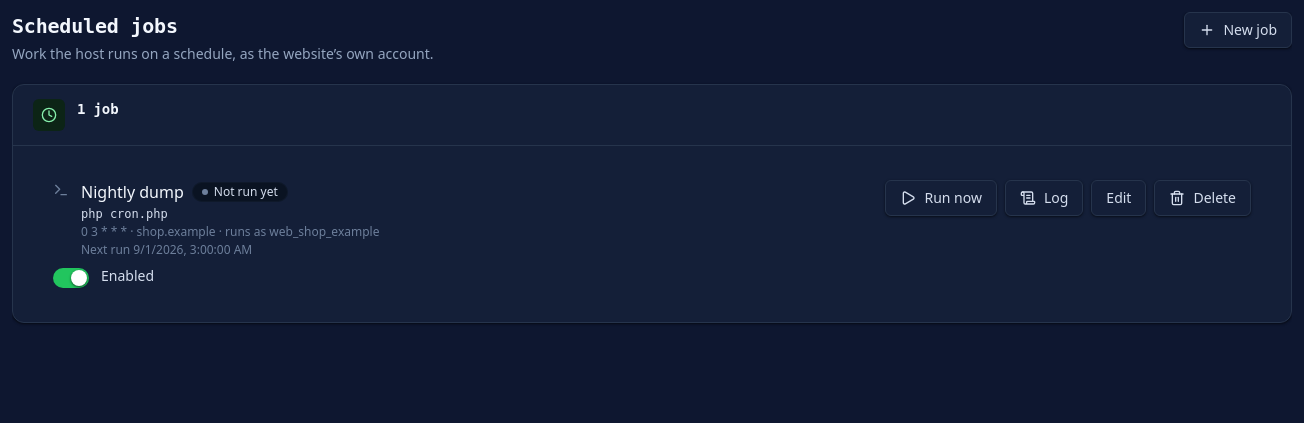
CronPage › reports a failed run as a failure
Click the button "Run now": [941, 198] box [885, 180, 997, 216]
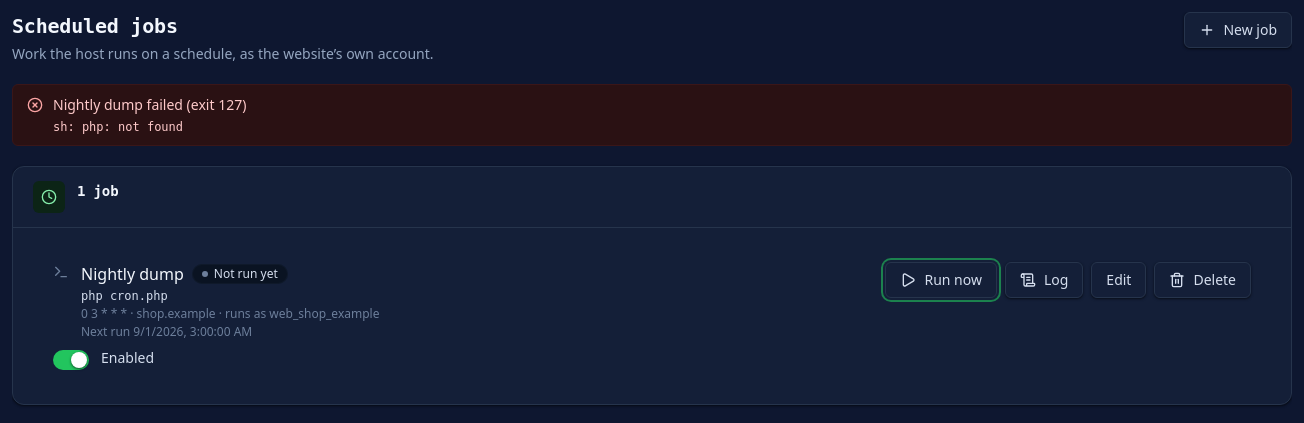
Expected: the text "Nightly dump failed (exit 127)" is shown, [53, 95, 246, 114]
Expected: the text "sh: php: not found" is shown, [53, 120, 183, 134]
